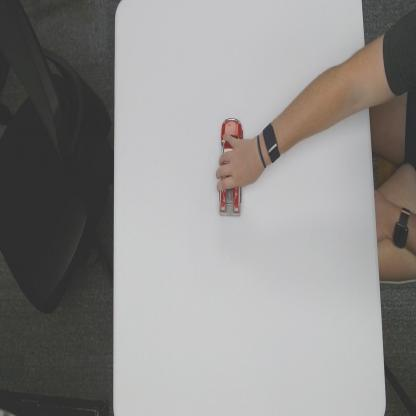Arm: (284, 36, 374, 150)
Firetruck: (219, 117, 244, 217)
Hand: (216, 133, 260, 190)
